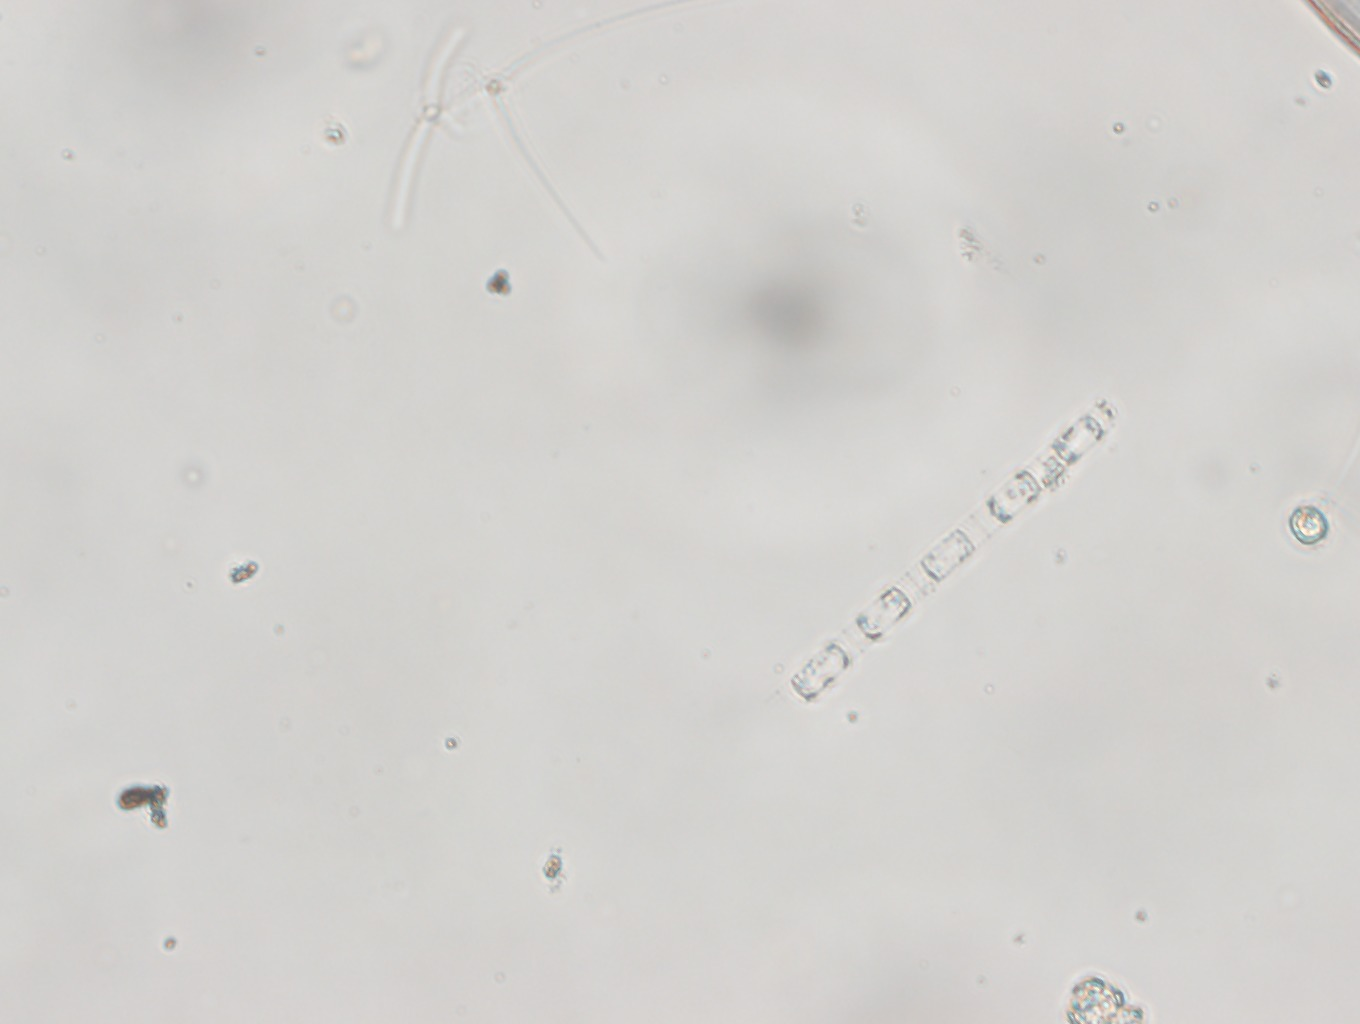skeletonema: (785, 394, 1129, 711)
